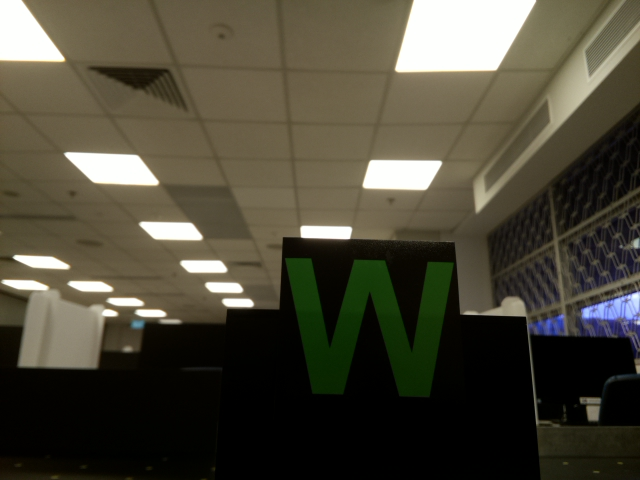w: (284, 251, 452, 401)
